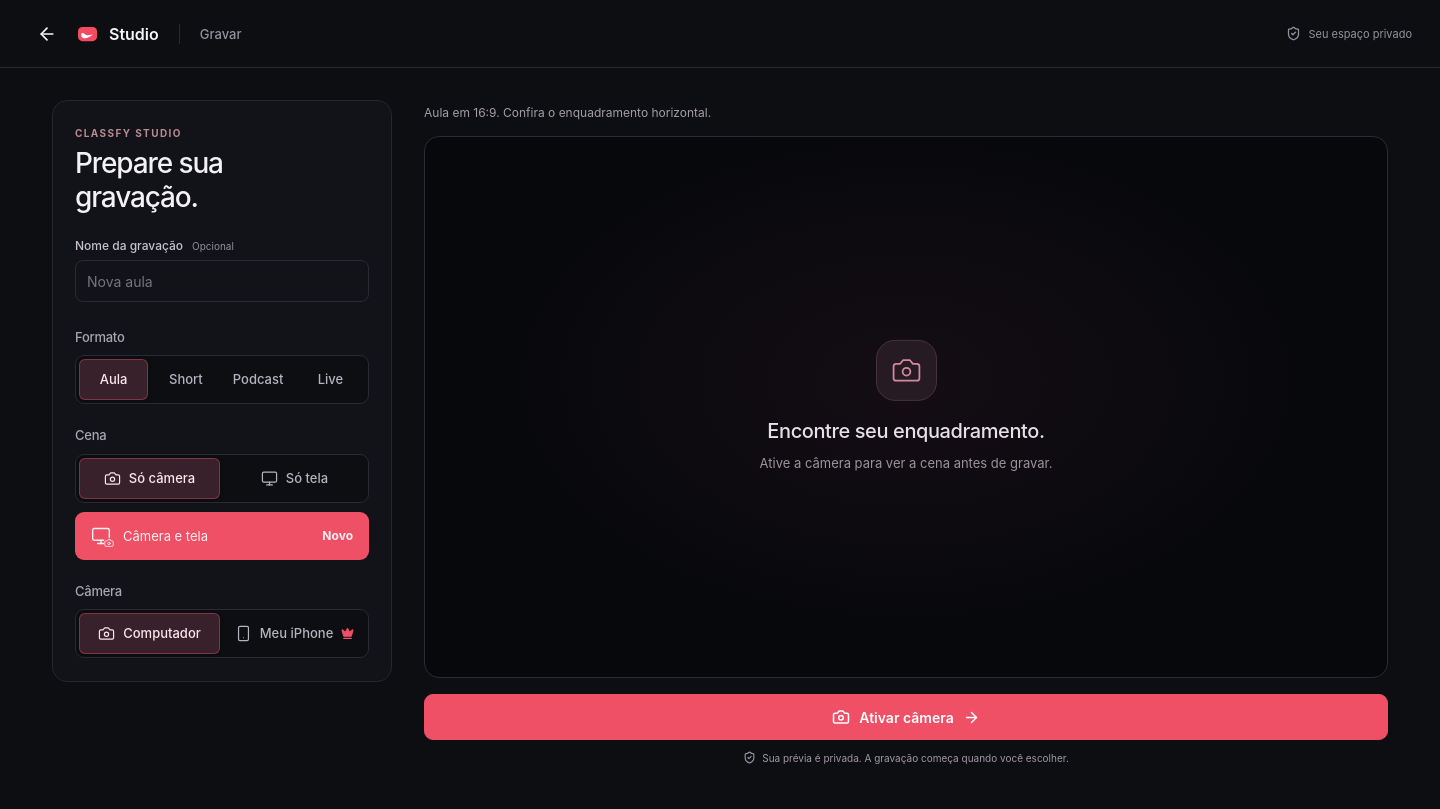
Test case: produção Premium com Workspace e controller de cenas reais › capacidade ausente explica o limite antes de qualquer permissão, mantendo gravação simples
Click the button "Câmera e tela Novo": [166, 536] box x1=75 y1=512 x2=369 y2=560
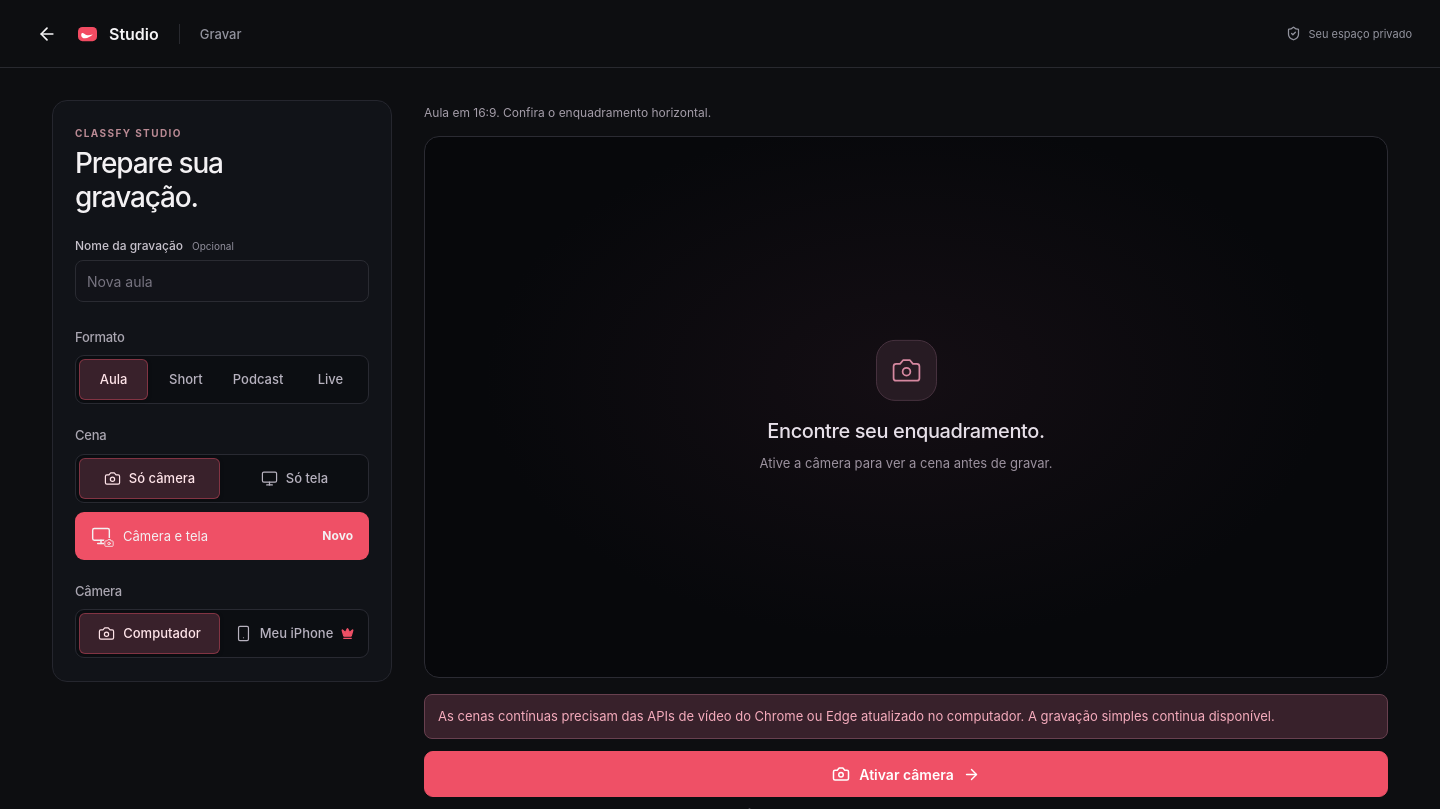
Expected: the button "Ativar câmera" is shown, x1=424 y1=751 x2=1388 y2=797
Expected: the message shows "Chrome ou Edge", x1=438 y1=708 x2=1275 y2=724
